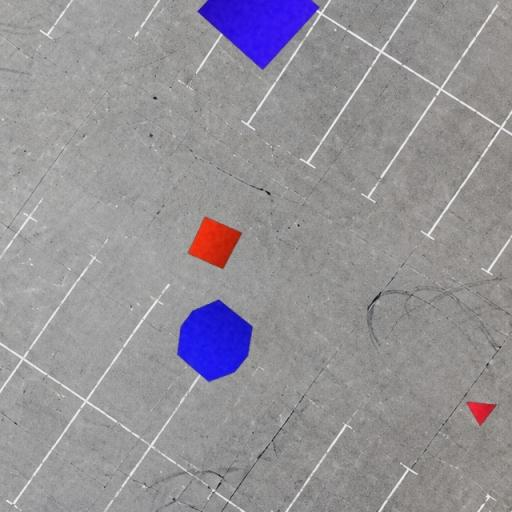BLUE_SQUARE: (197, 0, 320, 70)
RED_SQUARE: (187, 216, 243, 270)
